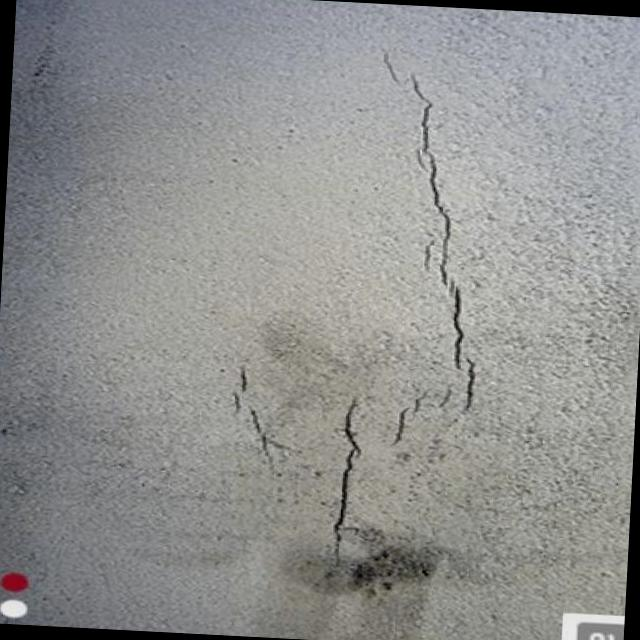defect: (378, 49, 480, 446), (331, 397, 366, 570), (228, 363, 274, 455)
